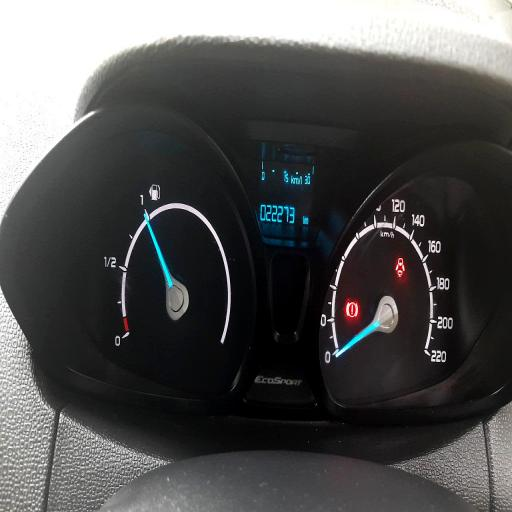brake_system_fault: (346, 300, 358, 318)
